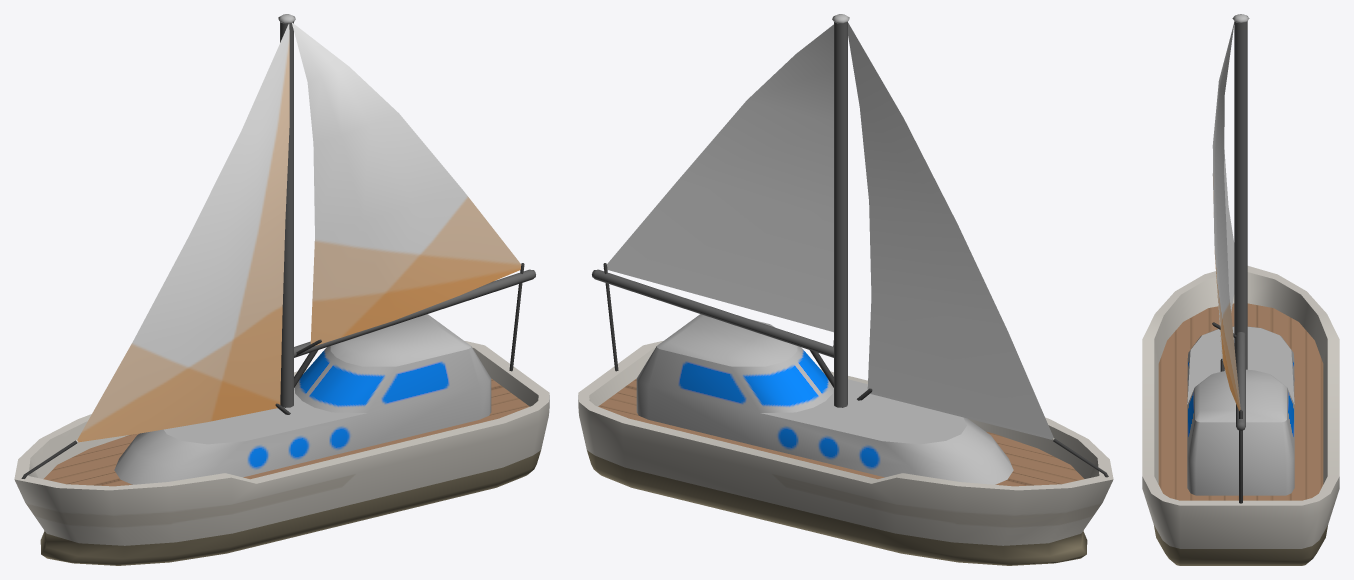
The model's file is FSW_Boat_03_Boat.fbx.
3 views of the same model, side by side, from view 1: azimuth 30°, elevation 25°; view 2: azimuth 150°, elevation 25°; view 3: azimuth 270°, elevation 25° (orthographic). The views are drawn at different scales.
Visible parts, largest first — view 1: FSW_Boat_03_Boat; view 2: FSW_Boat_03_Boat; view 3: FSW_Boat_03_Boat.
Part boxes in pixels (box(x1,y1,x2,y2)): FSW_Boat_03_Boat: box(14, 14, 549, 565); FSW_Boat_03_Boat: box(578, 14, 1113, 565); FSW_Boat_03_Boat: box(1142, 14, 1339, 565).
Size of the model in its own units: 210 by 187 by 73.43.
